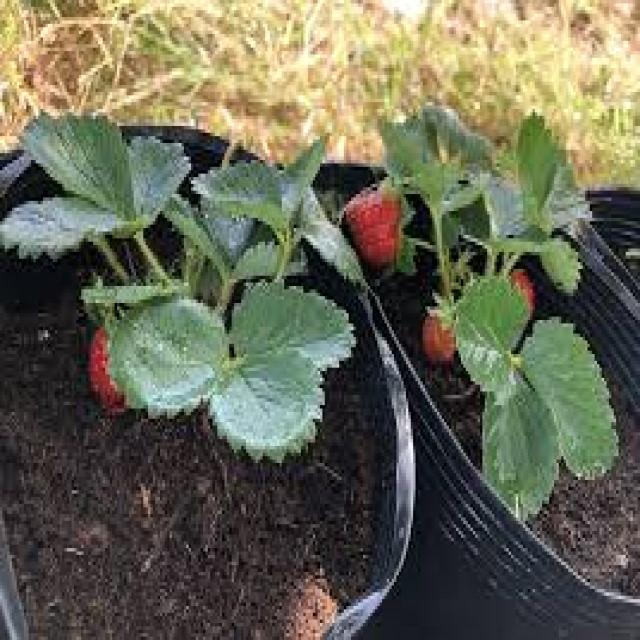Fruta sana: (336, 164, 406, 260), (90, 315, 158, 405), (412, 288, 454, 370), (502, 260, 544, 336)
